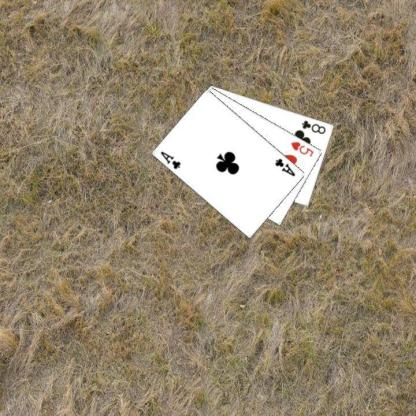5H: (288, 139, 315, 158)
8C: (299, 118, 327, 135)
AC: (158, 148, 182, 171), (273, 156, 296, 178)
